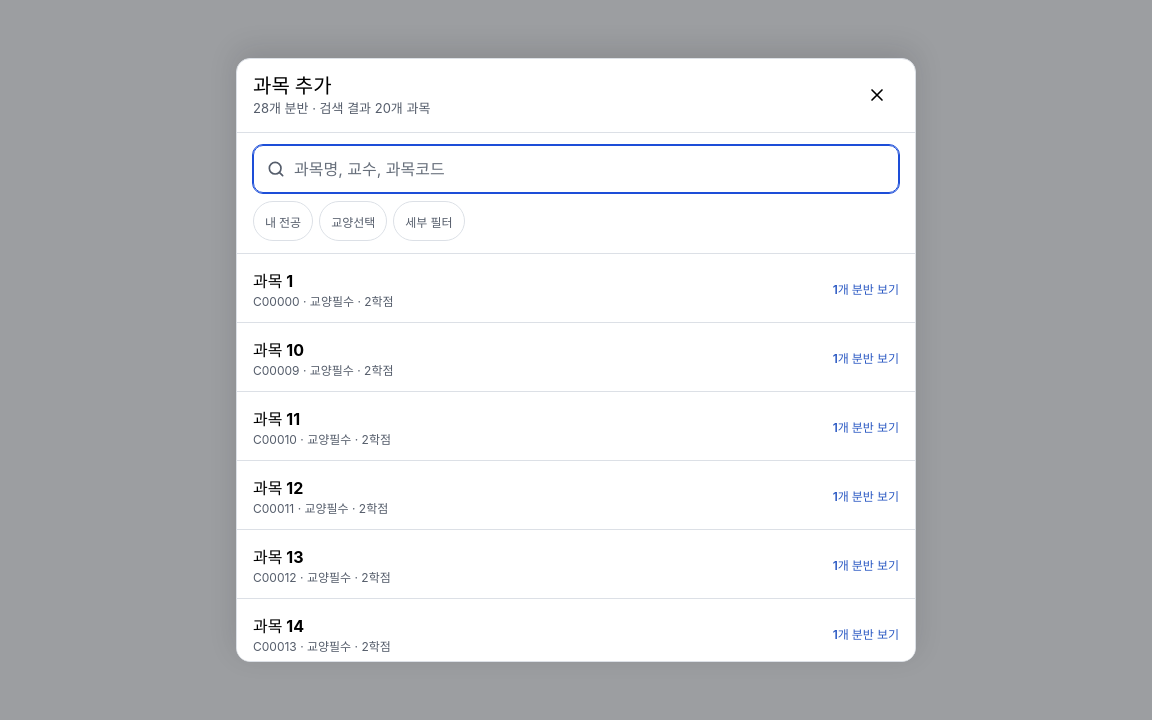
Test: course search sheet › keeps major and liberal choices as quick filters inside search
The width and height of the screenshot is (1152, 720).
Click the button with aria-label "교양선택 빠른 필터" at [353, 221], box [319,201,387,241]
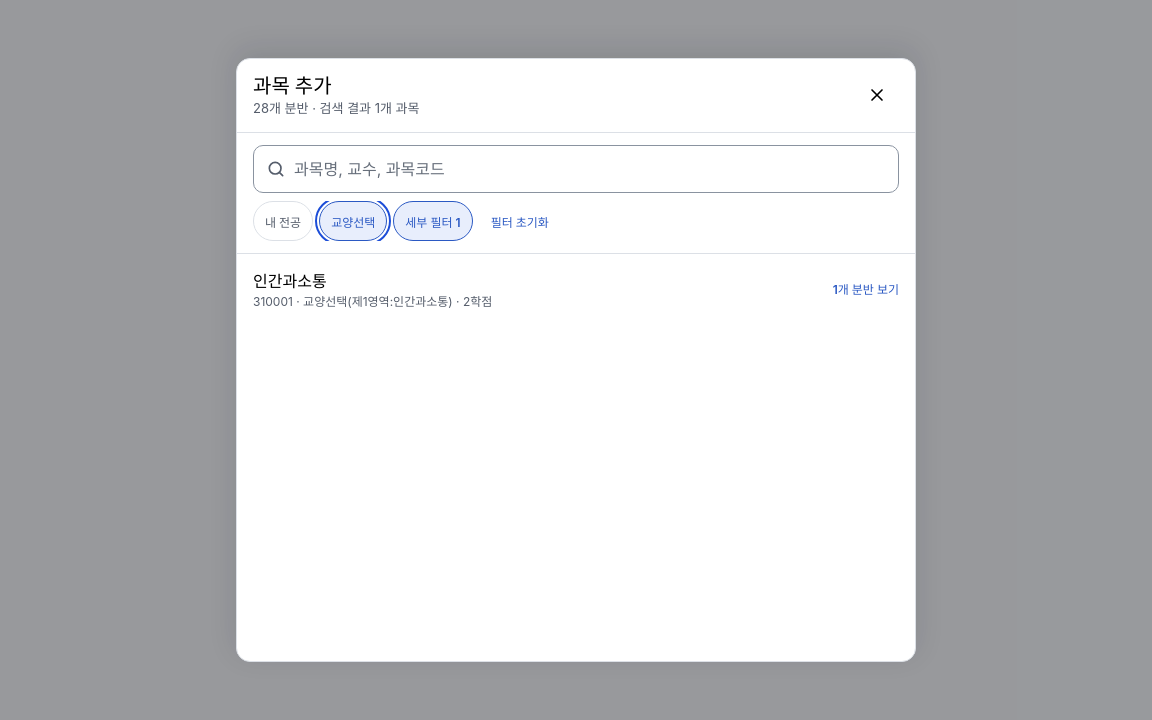
Click the button "세부 필터 1" at [433, 221], box [393,201,473,241]
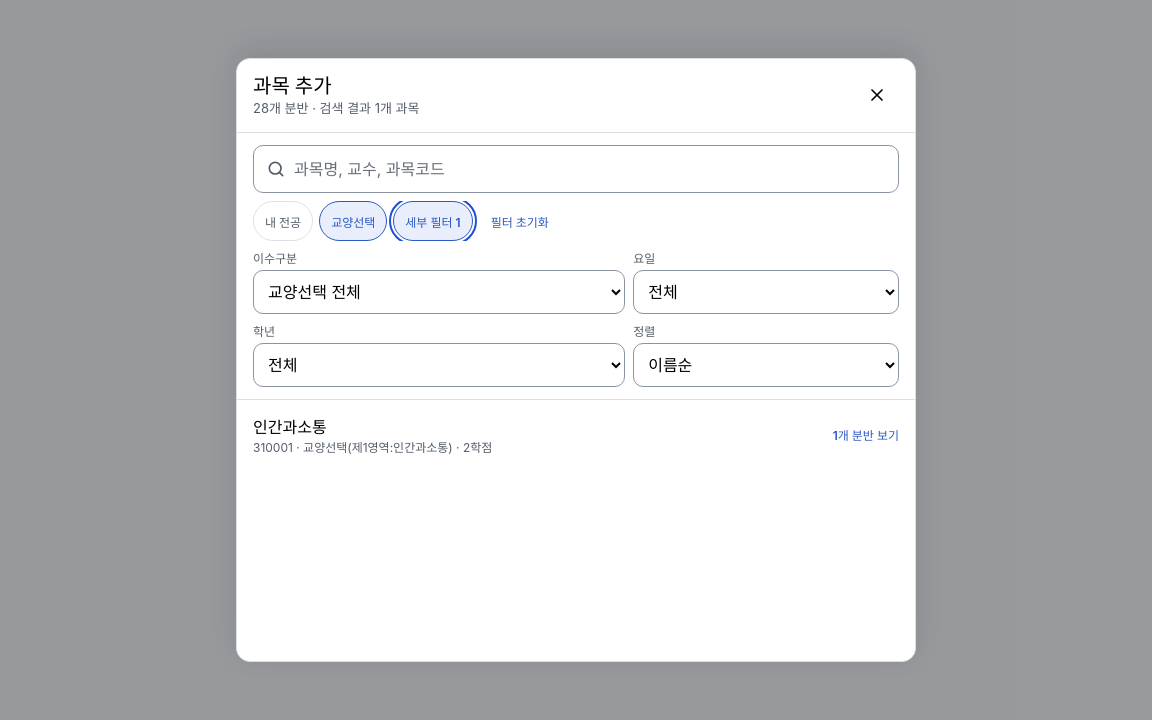
Check: the button "필터 초기화" is shown, box [479,201,561,241]
Check: the dropdown labelled "이수구분" shows "교양선택 전체", box [253,270,625,314]
